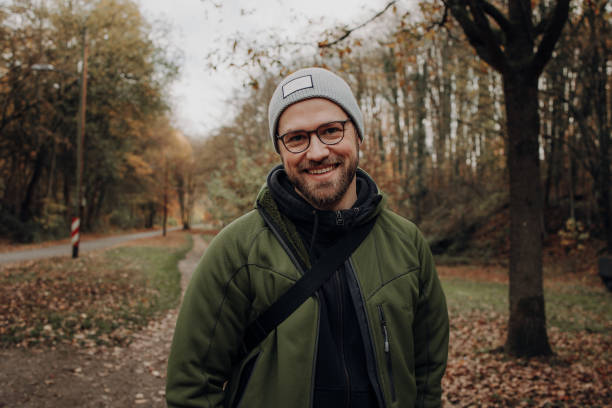Male: (165, 67, 452, 408)
